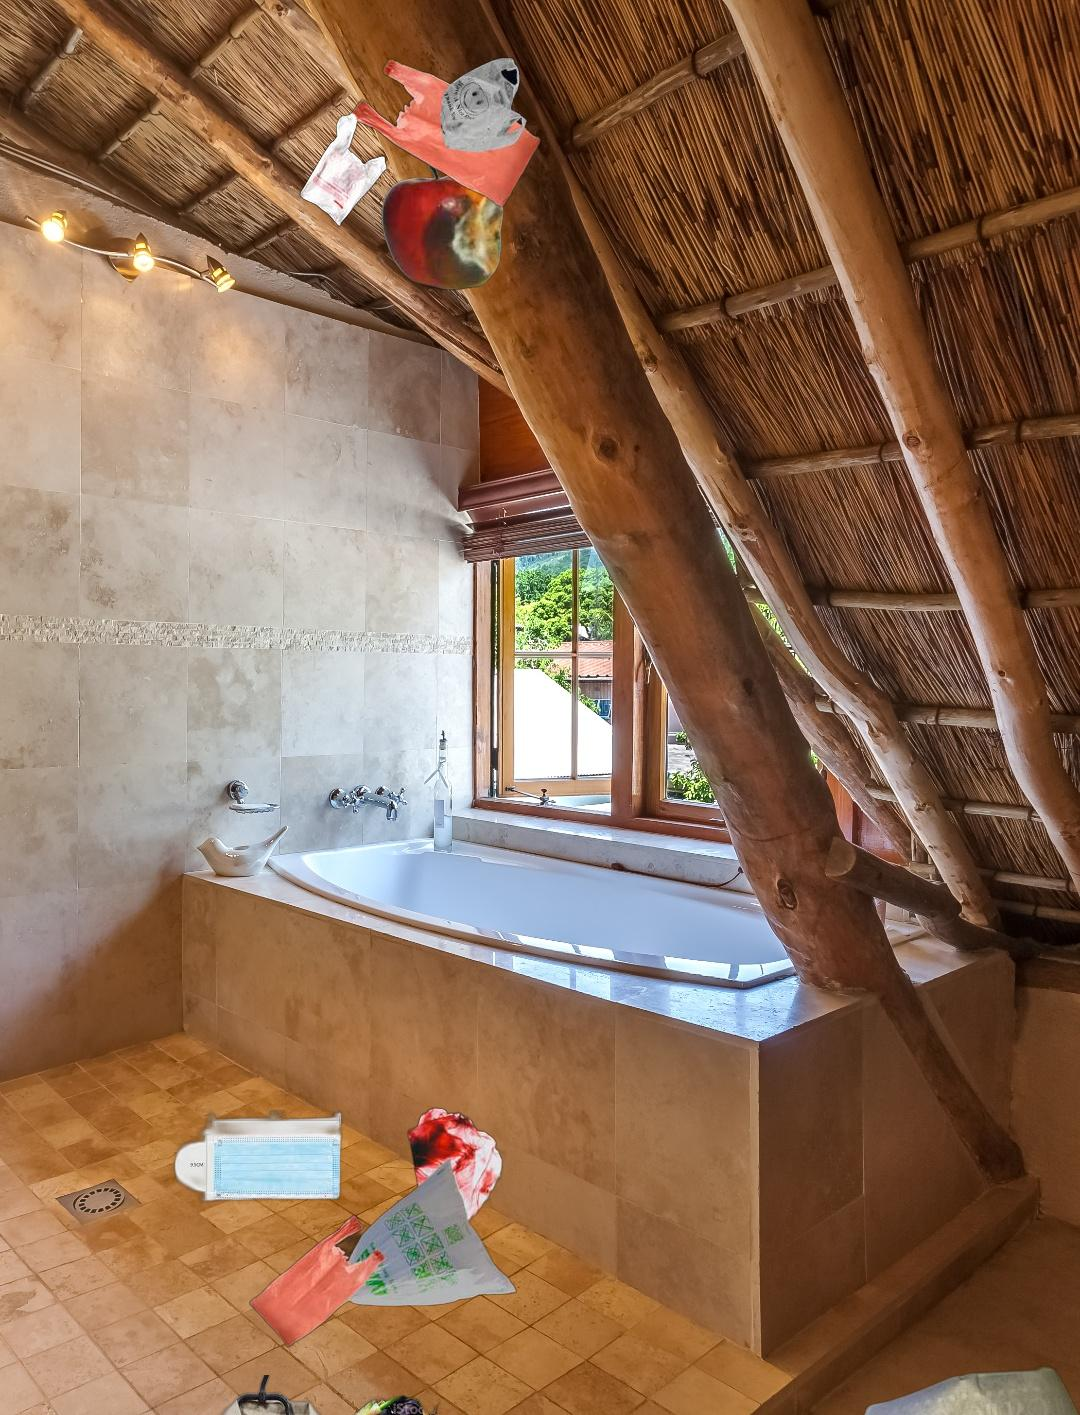biological: (378, 160, 507, 293), (284, 1391, 478, 1415)
clothes: (94, 1375, 416, 1415)
paper: (854, 1363, 1080, 1415)
plastic-bag: (247, 1106, 518, 1349), (297, 54, 543, 228)
trash: (166, 1047, 345, 1208)
